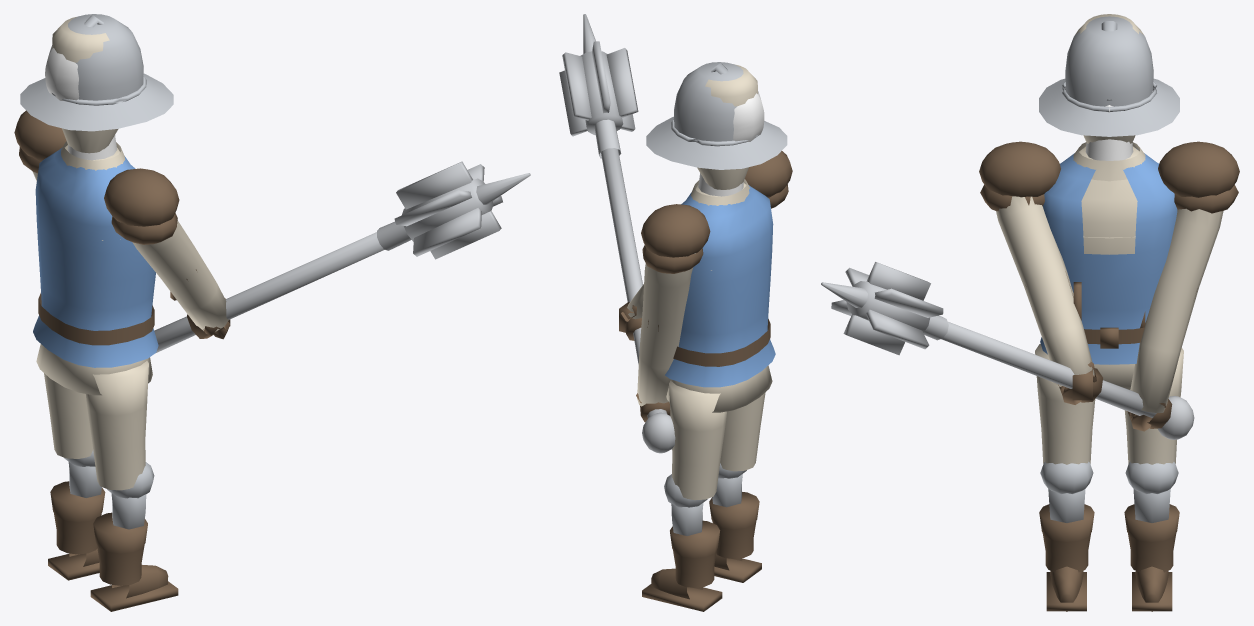
File: maceman.glb
3 renders of one model, left to right at view 1: azimuth 30°, elevation 25°; view 2: azimuth 150°, elevation 25°; view 3: azimuth 270°, elevation 25°, orthographic. The views are drawn at different scales.
Parts seen in each view (by area): view 1: Vest_Team, Helmet_Kettle, Weapon_Flanges, Leg_R, Boot_R, Weapon, Pauldron_R, Arm_R, Boot_L, Leg_L, Helmet_Coif, Torso (+7 smaller); view 2: Vest_Team, Helmet_Kettle, Weapon_Flanges, Leg_L, Arm_L, Boot_L, Pauldron_L, Weapon, Boot_R, Leg_R, Helmet_Coif, Torso (+12 smaller); view 3: Vest_Team, Helmet_Kettle, Arm_L, Arm_R, Weapon_Flanges, Torso, Pauldron_L, Boot_R, Boot_L, Pauldron_R, Weapon, Leg_R (+11 smaller).
Part boxes in pixels (left/top/right/bottom): Vest_Team: left=33, top=147, right=158, bottom=367; Helmet_Kettle: left=20, top=14, right=173, bottom=131; Weapon_Flanges: left=394, top=161, right=502, bottom=259; Leg_R: left=86, top=361, right=148, bottom=490; Boot_R: left=90, top=512, right=178, bottom=611; Weapon: left=154, top=221, right=411, bottom=353; Pauldron_R: left=104, top=168, right=179, bottom=244; Arm_R: left=132, top=220, right=228, bottom=331; Boot_L: left=48, top=481, right=105, bottom=580; Leg_L: left=44, top=373, right=93, bottom=458; Helmet_Coif: left=52, top=17, right=118, bottom=153; Torso: left=36, top=145, right=152, bottom=395; Vest_Team: left=665, top=185, right=775, bottom=387; Helmet_Kettle: left=646, top=62, right=787, bottom=169; Weapon_Flanges: left=559, top=41, right=638, bottom=136; Leg_L: left=669, top=381, right=726, bottom=500; Arm_L: left=637, top=253, right=695, bottom=406; Boot_L: left=642, top=520, right=722, bottom=611; Pauldron_L: left=641, top=204, right=710, bottom=273; Weapon: left=594, top=119, right=667, bottom=418; Boot_R: left=709, top=492, right=761, bottom=582; Leg_R: left=720, top=392, right=765, bottom=471; Helmet_Coif: left=697, top=64, right=757, bottom=189; Torso: left=666, top=183, right=772, bottom=412; Vest_Team: left=1040, top=148, right=1177, bottom=364; Helmet_Kettle: left=1039, top=16, right=1179, bottom=136; Arm_L: left=1130, top=208, right=1223, bottom=412; Arm_R: left=996, top=196, right=1094, bottom=386; Weapon_Flanges: left=831, top=262, right=943, bottom=355; Torso: left=1051, top=146, right=1139, bottom=389; Pauldron_L: left=1158, top=141, right=1239, bottom=213; Boot_R: left=1039, top=504, right=1094, bottom=611; Boot_L: left=1124, top=504, right=1179, bottom=611; Pauldron_R: left=979, top=141, right=1060, bottom=211; Weapon: left=923, top=315, right=1168, bottom=422; Leg_R: left=1035, top=344, right=1095, bottom=464.
Bounding box in the file's own units: 0.7652 × 1.19 × 0.7868.
